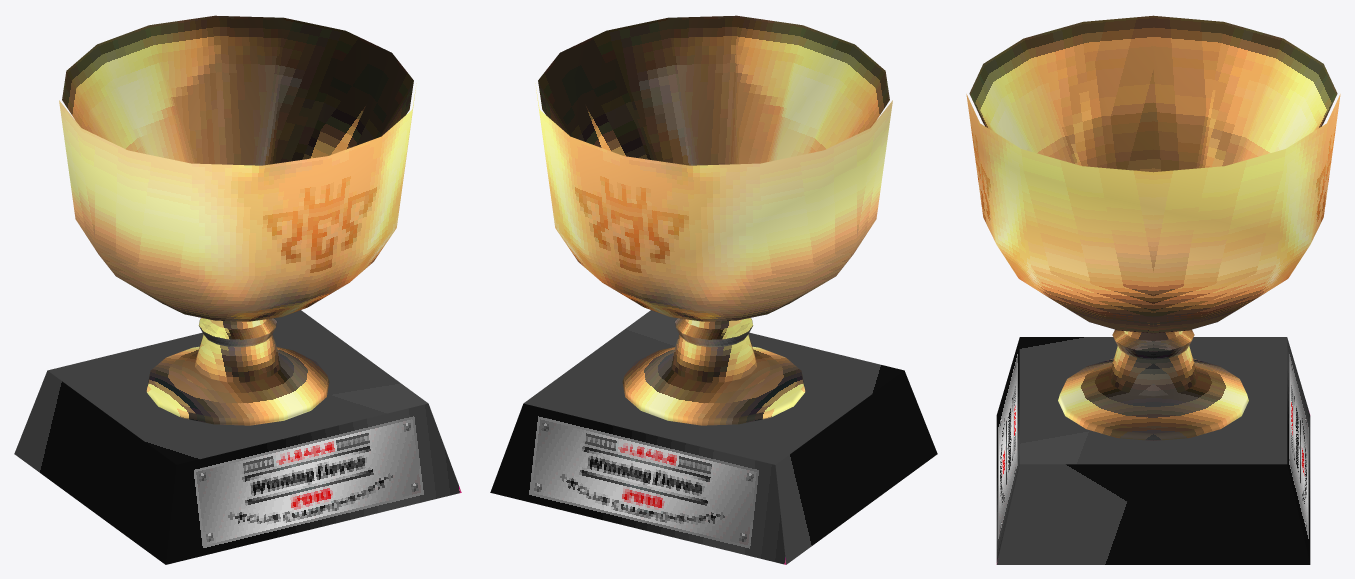
File: ps2_save-icons_jleaguewinningeleven2010.glb
3 renders of one model, left to right at view 1: azimuth 30°, elevation 25°; view 2: azimuth 150°, elevation 25°; view 3: azimuth 270°, elevation 25°, orthographic. The views are drawn at different scales.
Visible parts, largest first — view 1: icon_view; view 2: icon_view; view 3: icon_view.
Part boxes in pixels (x1,y1,x2,y2): icon_view: (14, 15, 461, 564); icon_view: (490, 15, 937, 564); icon_view: (966, 15, 1340, 564).
Bounding box in the file's own units: 4.17 × 4.88 × 4.17.
Materials: 1 (1 with a texture image).
